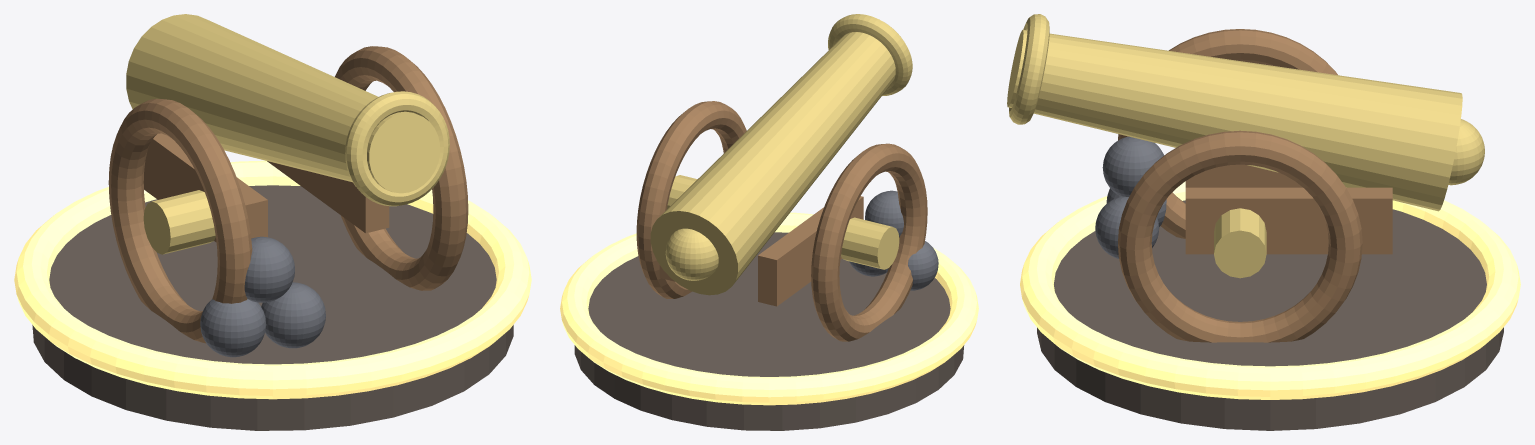
The model's file is imperial_cannon.glb.
3 renders of one model, left to right at view 1: azimuth 30°, elevation 25°; view 2: azimuth 150°, elevation 25°; view 3: azimuth 270°, elevation 25°, orthographic. The views are drawn at different scales.
Parts seen in each view (by area): view 1: Cylinder, Torus, Cone, Torus.001, Torus.002, Torus.003, Cube, Cylinder.001, Sphere.001, Sphere.002, Cube.001, Sphere.003; view 2: Cylinder, Cone, Torus, Torus.001, Torus.002, Cube, Cylinder.001, Torus.003, Sphere, Sphere.003, Sphere.001, Cylinder.002; view 3: Cylinder, Cone, Torus, Torus.002, Cube.001, Torus.001, Cylinder.002, Torus.003, Sphere.003, Cube, Sphere, Sphere.002.
Part boxes in pixels (left/top/right/bottom): Cylinder: left=32, top=185, right=513, bottom=430; Torus: left=14, top=160, right=531, bottom=399; Cone: left=126, top=14, right=440, bottom=193; Torus.001: left=108, top=98, right=252, bottom=343; Torus.002: left=335, top=46, right=468, bottom=290; Torus.003: left=345, top=91, right=449, bottom=206; Cube: left=143, top=133, right=267, bottom=241; Cylinder.001: left=143, top=190, right=215, bottom=254; Sphere.001: left=200, top=299, right=266, bottom=357; Sphere.002: left=261, top=282, right=325, bottom=348; Cube.001: left=267, top=161, right=389, bottom=233; Sphere.003: left=244, top=236, right=294, bottom=302; Cylinder: left=574, top=232, right=964, bottom=430; Cone: left=650, top=32, right=895, bottom=295; Torus: left=560, top=212, right=978, bottom=405; Torus.001: left=811, top=143, right=927, bottom=341; Torus.002: left=636, top=101, right=746, bottom=298; Cube: left=758, top=196, right=863, bottom=306; Cylinder.001: left=841, top=217, right=899, bottom=269; Torus.003: left=828, top=14, right=912, bottom=95; Sphere: left=665, top=228, right=718, bottom=280; Sphere.003: left=865, top=190, right=903, bottom=236; Sphere.001: left=886, top=241, right=938, bottom=290; Cylinder.002: left=667, top=175, right=697, bottom=208; Cylinder: left=1037, top=200, right=1503, bottom=430; Cone: left=1007, top=29, right=1462, bottom=211; Torus: left=1020, top=181, right=1520, bottom=399; Torus.002: left=1118, top=130, right=1362, bottom=342; Cube.001: left=1185, top=187, right=1392, bottom=254; Torus.001: left=1118, top=29, right=1337, bottom=238; Cylinder.002: left=1214, top=208, right=1266, bottom=278; Torus.003: left=1009, top=14, right=1049, bottom=124; Sphere.003: left=1102, top=136, right=1163, bottom=196; Cube: left=1185, top=164, right=1302, bottom=187; Sphere: left=1448, top=119, right=1484, bottom=185; Sphere.002: left=1095, top=196, right=1159, bottom=258.
Bounding box in the file's own units: 1.33 × 0.9167 × 1.36.
